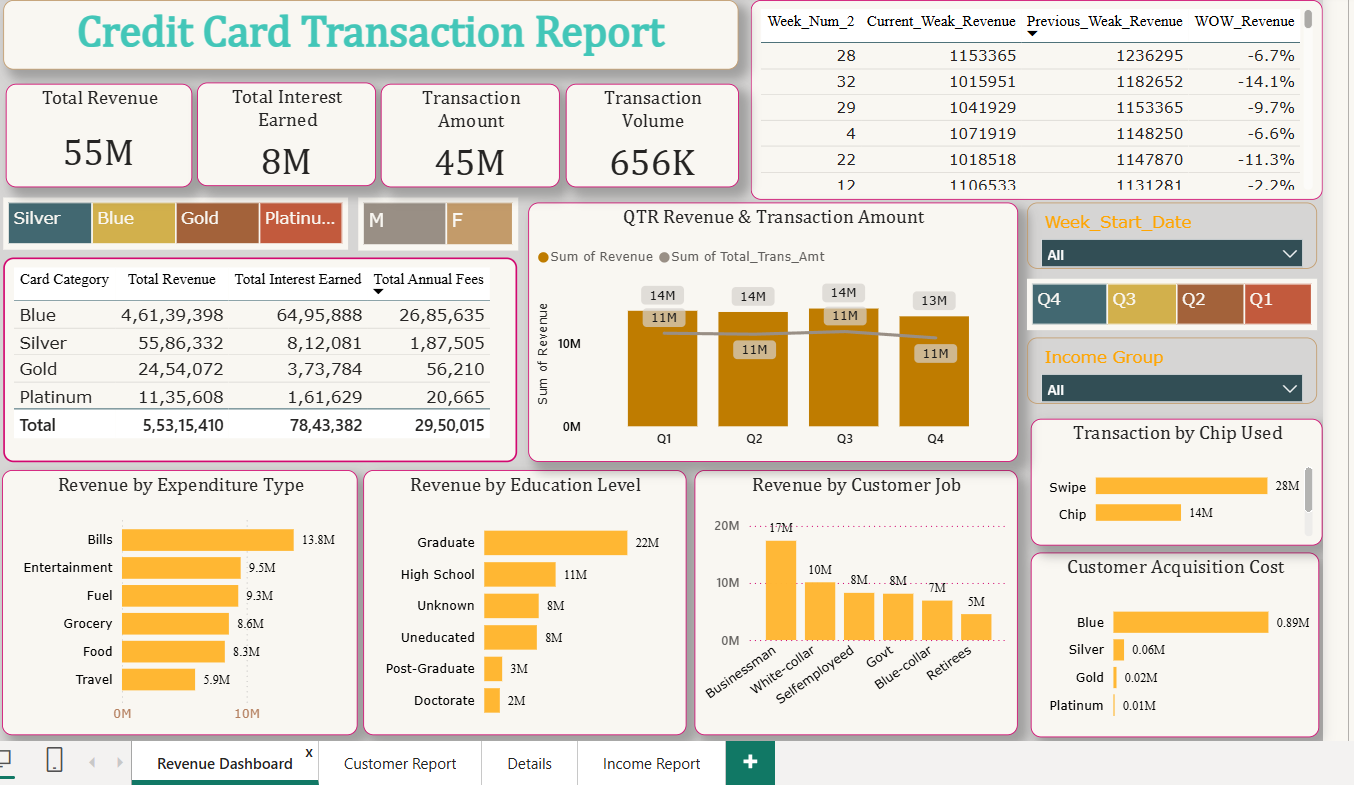

This screenshot's page, from the dashboard's own definition file:
{"tool":"powerbi","page":{"name":"Revenue Dashboard","canvas":[1280,720],"ordinal":0},"visuals":[{"type":"tableEx","fields":{"Values":["credit_card.Week_Num_2","New Measure.Current_Weak_Revenue","New Measure.Previous_Weak_Revenue","New Measure.WOW_Revenue"]},"box":[726.9,4.8,551.9,192.5],"z":0},{"type":"barChart","title":"Revenue by Expenditure Type","fields":{"Category":["credit_card.Exp Type"],"Y":["Sum(credit_card.Revenue)"]},"box":[4.8,458.1,343.6,256.1],"z":1000},{"type":"textbox","box":[6.4,4.8,709.4,97],"z":2000},{"type":"barChart","title":"Revenue by Education Level","fields":{"Category":["customer.Education_Level"],"Y":["Sum(credit_card.Revenue)"]},"box":[353.1,458.1,311.8,256.1],"z":3000},{"type":"clusteredColumnChart","title":" Revenue by Customer Job","fields":{"Category":["customer.Customer_Job"],"Y":["Sum(credit_card.Revenue)"]},"box":[672.8,458.1,311.8,256.1],"z":4000},{"type":"barChart","title":"Customer Acquisition Cost","fields":{"Category":["credit_card.Card_Category"],"Y":["Sum(credit_card.Customer_Acq_Cost)"]},"box":[997.3,537.6,278.4,178.1],"z":5000},{"type":"barChart","title":"Transaction by Chip Used","fields":{"Category":["credit_card.Use Chip"],"Y":["Sum(credit_card.Total_Trans_Amt)"]},"box":[997.3,408.8,281.5,122.5],"z":6000},{"type":"tableEx","fields":{"Values":["credit_card.Card_Category","Sum(credit_card.Revenue)","Sum(credit_card.Interest_Earned)","Sum(credit_card.Annual_Fees)"]},"box":[6.4,252.9,496.3,197.2],"z":7000},{"type":"lineClusteredColumnComboChart","title":"QTR Revenue & Transaction Amount","fields":{"Category":["credit_card.Qtr"],"Y":["Sum(credit_card.Revenue)"],"Y2":["Sum(credit_card.Total_Trans_Amt)"]},"box":[512.2,200.4,472.4,250],"z":8000},{"type":"treemap","fields":{"Group":["customer.Gender"],"Values":["Sum(credit_card.Total_Trans_Amt)"]},"box":[348.3,195.6,154.3,50.9],"z":9000},{"type":"treemap","fields":{"Group":["credit_card.Card_Category"],"Values":["Avg(credit_card.Client_Num)"]},"box":[6.4,195.6,332.4,50],"z":10000},{"type":"slicer","fields":{"Values":["credit_card.Week_Start_Date"]},"box":[994.1,200.4,279.9,63.6],"z":11000},{"type":"card","title":"Total Revenue","fields":{"Values":["Sum(credit_card.Revenue)"]},"box":[8,85.9,179.7,100.2],"z":12000},{"type":"card","title":"Total Interest Earned","fields":{"Values":["Sum(credit_card.Interest_Earned)"]},"box":[192.5,84.3,173,100.2],"z":13000},{"type":"card","title":"Transaction Amount","fields":{"Values":["Sum(credit_card.Total_Trans_Amt)"]},"box":[370.6,85.9,173,100.2],"z":14000},{"type":"card","title":"Transaction Volume","fields":{"Values":["Sum(credit_card.Total_Trans_Vol)"]},"box":[548.8,85.9,167,100.2],"z":15000},{"type":"slicer","fields":{"Values":["customer.Income Group"]},"box":[994.1,330.8,279.9,63.6],"z":16000},{"type":"treemap","fields":{"Group":["credit_card.Qtr"],"Values":["Avg(credit_card.Client_Num)"]},"box":[994.1,273.6,279.9,49.3],"z":17000}]}

Visuals, with their boxes in screenshot pixels (x1, y1, x2, y2):
tableEx - credit_card.Week_Num_2 x New Measure.Current_Weak_Revenue: {"x1": 748, "y1": 0, "x2": 1323, "y2": 199}
"Revenue by Expenditure Type" barChart: {"x1": 0, "y1": 471, "x2": 353, "y2": 738}
textbox: {"x1": 0, "y1": 0, "x2": 736, "y2": 99}
"Revenue by Education Level" barChart: {"x1": 358, "y1": 471, "x2": 683, "y2": 738}
" Revenue by Customer Job" clusteredColumnChart: {"x1": 691, "y1": 471, "x2": 1017, "y2": 738}
"Customer Acquisition Cost" barChart: {"x1": 1030, "y1": 554, "x2": 1320, "y2": 740}
"Transaction by Chip Used" barChart: {"x1": 1030, "y1": 419, "x2": 1323, "y2": 547}
tableEx - credit_card.Card_Category x Sum(credit_card.Revenue): {"x1": 0, "y1": 257, "x2": 514, "y2": 462}
"QTR Revenue & Transaction Amount" lineClusteredColumnComboChart: {"x1": 524, "y1": 202, "x2": 1017, "y2": 463}
treemap - customer.Gender x Sum(credit_card.Total_Trans_Amt): {"x1": 353, "y1": 197, "x2": 514, "y2": 250}
treemap - credit_card.Card_Category x Avg(credit_card.Client_Num): {"x1": 0, "y1": 197, "x2": 343, "y2": 249}
slicer - credit_card.Week_Start_Date: {"x1": 1026, "y1": 202, "x2": 1318, "y2": 268}
"Total Revenue" card: {"x1": 0, "y1": 83, "x2": 185, "y2": 187}
"Total Interest Earned" card: {"x1": 190, "y1": 81, "x2": 371, "y2": 185}
"Transaction Amount" card: {"x1": 376, "y1": 83, "x2": 556, "y2": 187}
"Transaction Volume" card: {"x1": 562, "y1": 83, "x2": 736, "y2": 187}
slicer - customer.Income Group: {"x1": 1026, "y1": 338, "x2": 1318, "y2": 404}
treemap - credit_card.Qtr x Avg(credit_card.Client_Num): {"x1": 1026, "y1": 278, "x2": 1318, "y2": 330}
